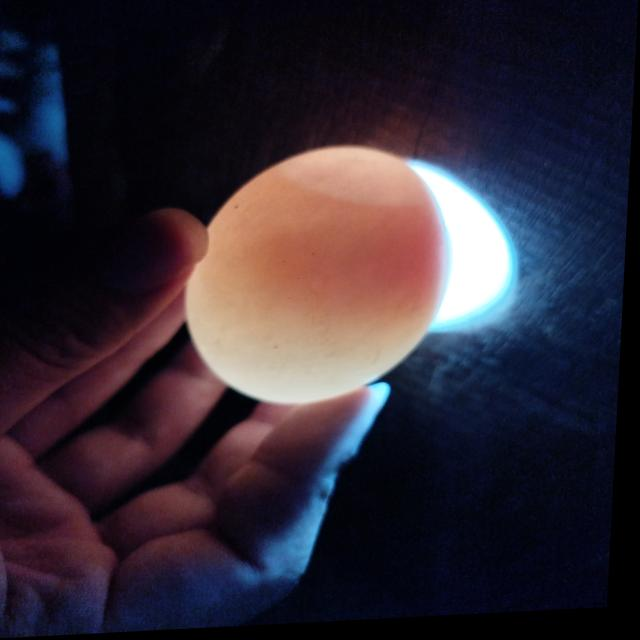Camara de Ar: (278, 152, 434, 211)
Gema Quebrada: (262, 217, 449, 317)
